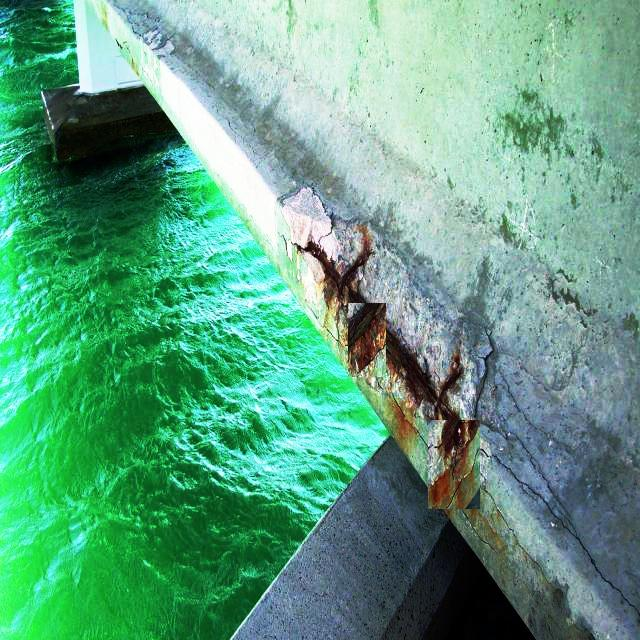Corrosion: (306, 244, 359, 304), (389, 335, 421, 382), (415, 381, 451, 420), (356, 326, 385, 370), (349, 304, 378, 344), (449, 421, 468, 450), (435, 479, 450, 496)
